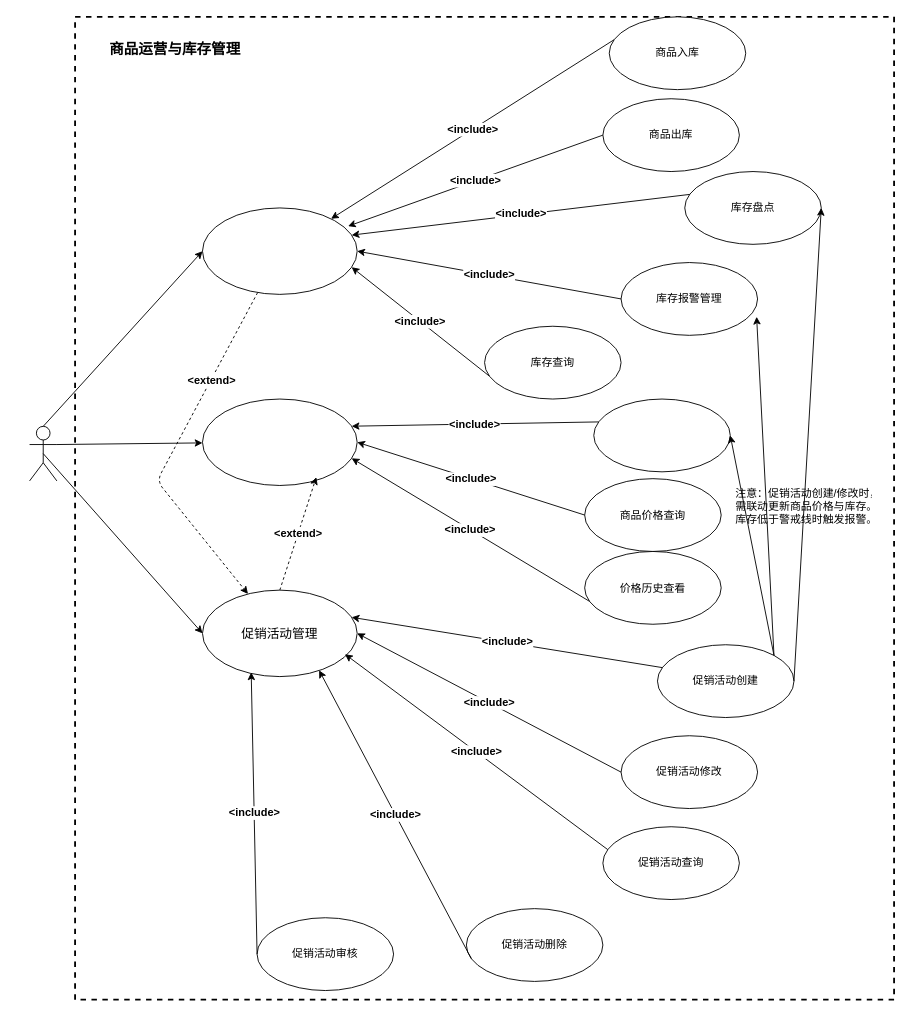
This 911x1016 diagram has some shape labels left out. The shapes that lost their labels are listed below. From the top down, each one's box as (x1, y1, x2, y2) in pixels, then its label:
(202, 207, 357, 294): 商品库存管理
(29, 425, 57, 481): 商品管理员
(202, 398, 357, 485): 商品价格管理
(593, 398, 730, 472): 商品价格调整
